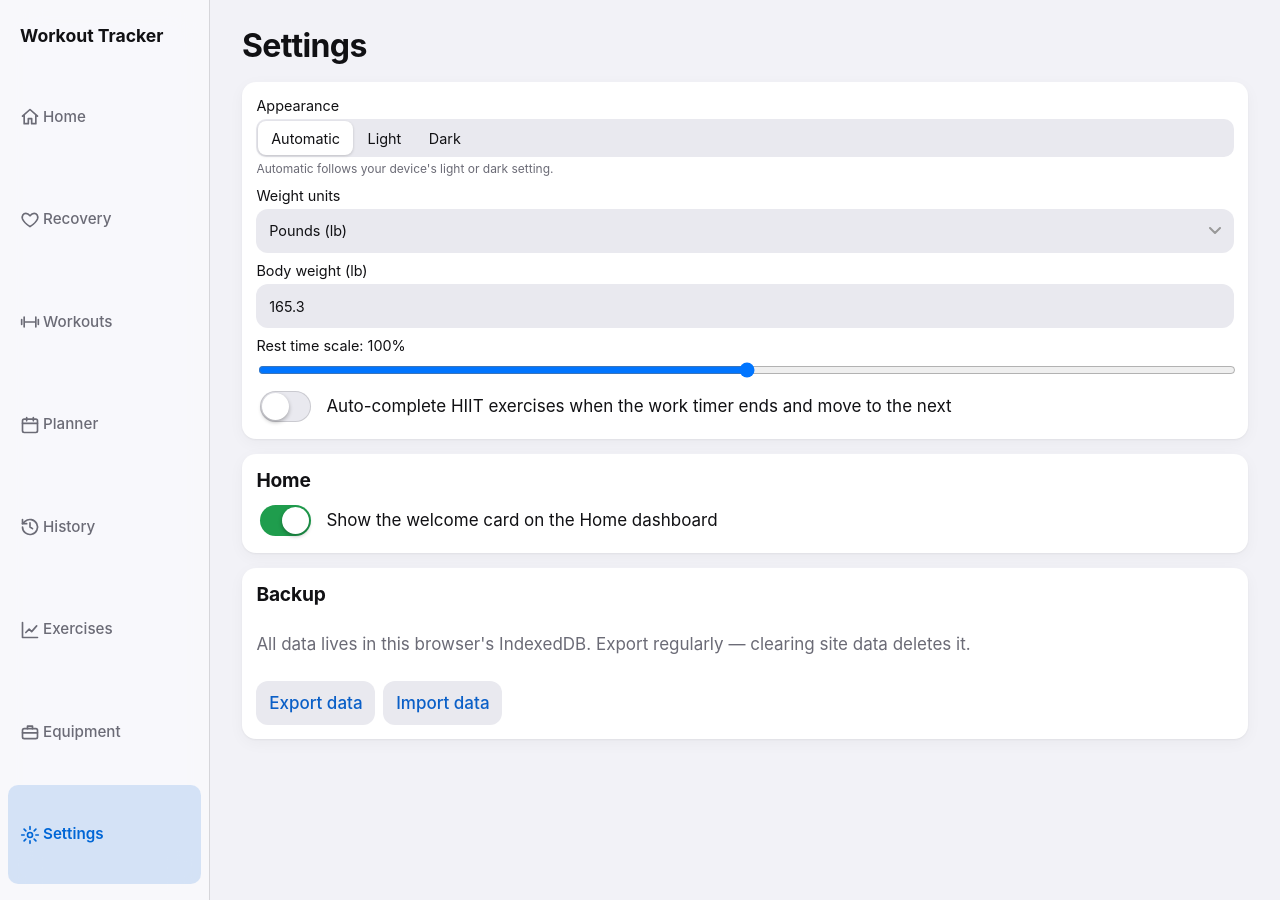
Scenario: settings › exports data as a download
Expected: the navigation bar named "Main" is shown, x1=0 y1=0 x2=210 y2=899
Click the button "Export data" at (316, 703), box x1=256 y1=681 x2=375 y2=725
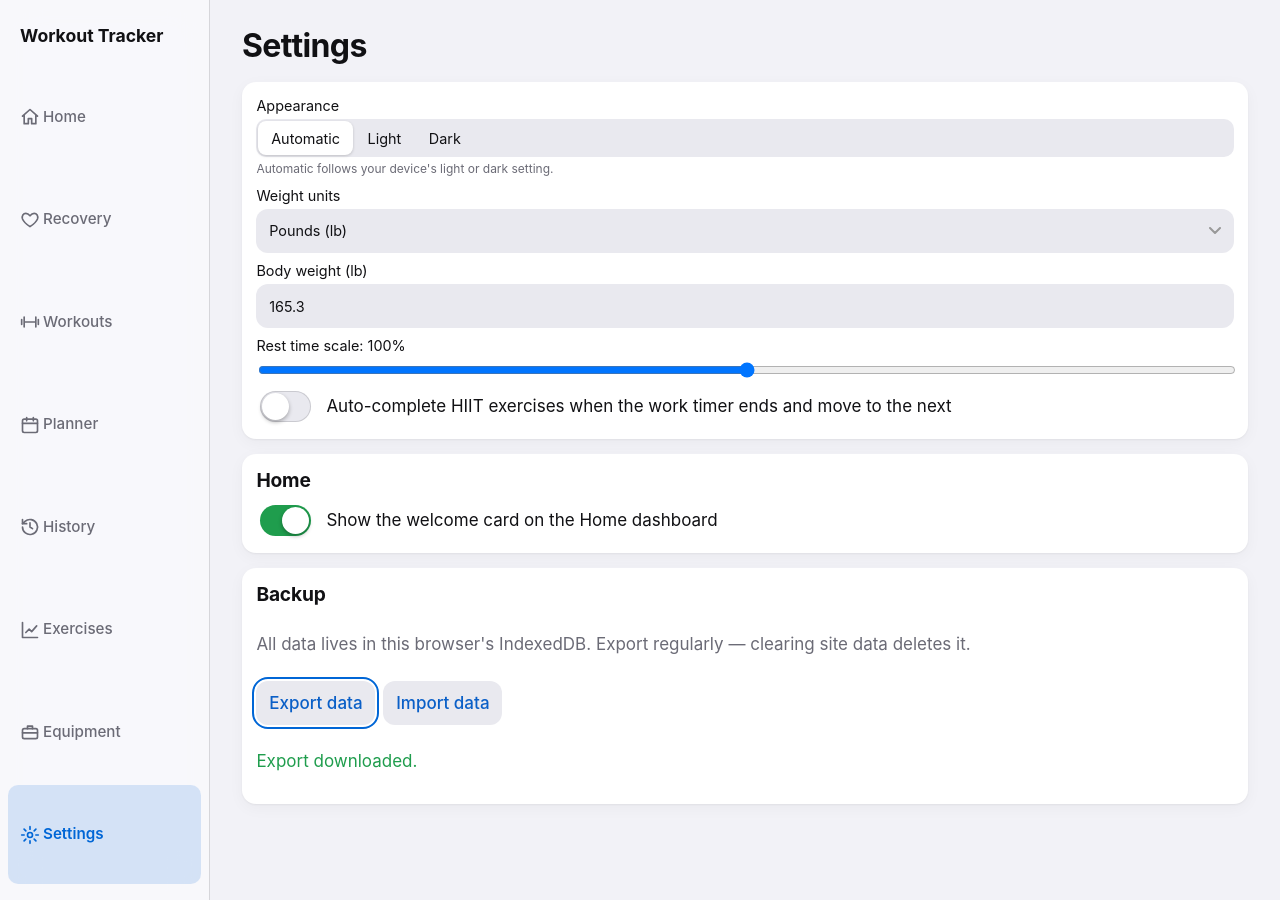
Now the text "Export downloaded." is shown, box x1=256 y1=751 x2=417 y2=771
